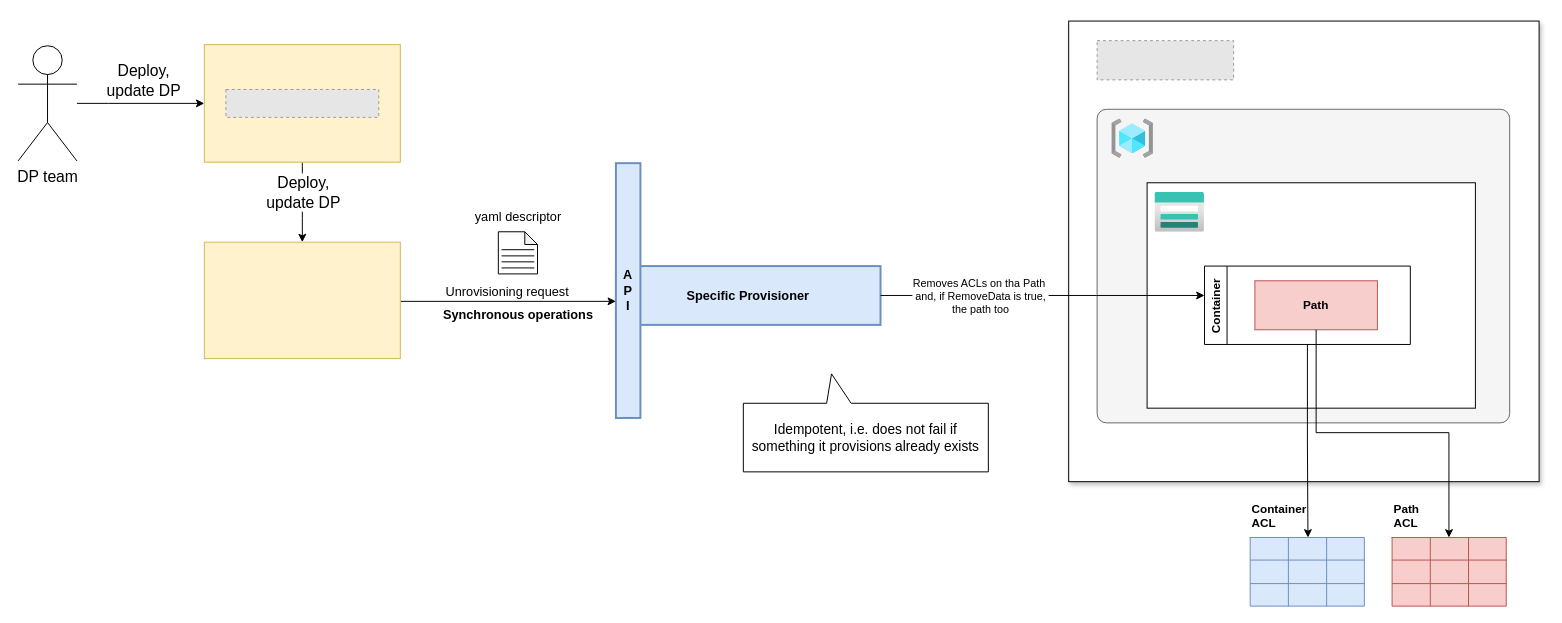
This 1562x623 diagram has some shape labels left out. Grey dashed boxes stand in for pictures. The shapes that lost their labels are listed below. From the top down, each one's centre as x and y in pixels, then its label:
At point 1132,138: "Resource group".
At point 1179,212: "Azure Data Lake Storage Gen 2 Storage account".
At point 301,300: "Provisioning Coordinator".
